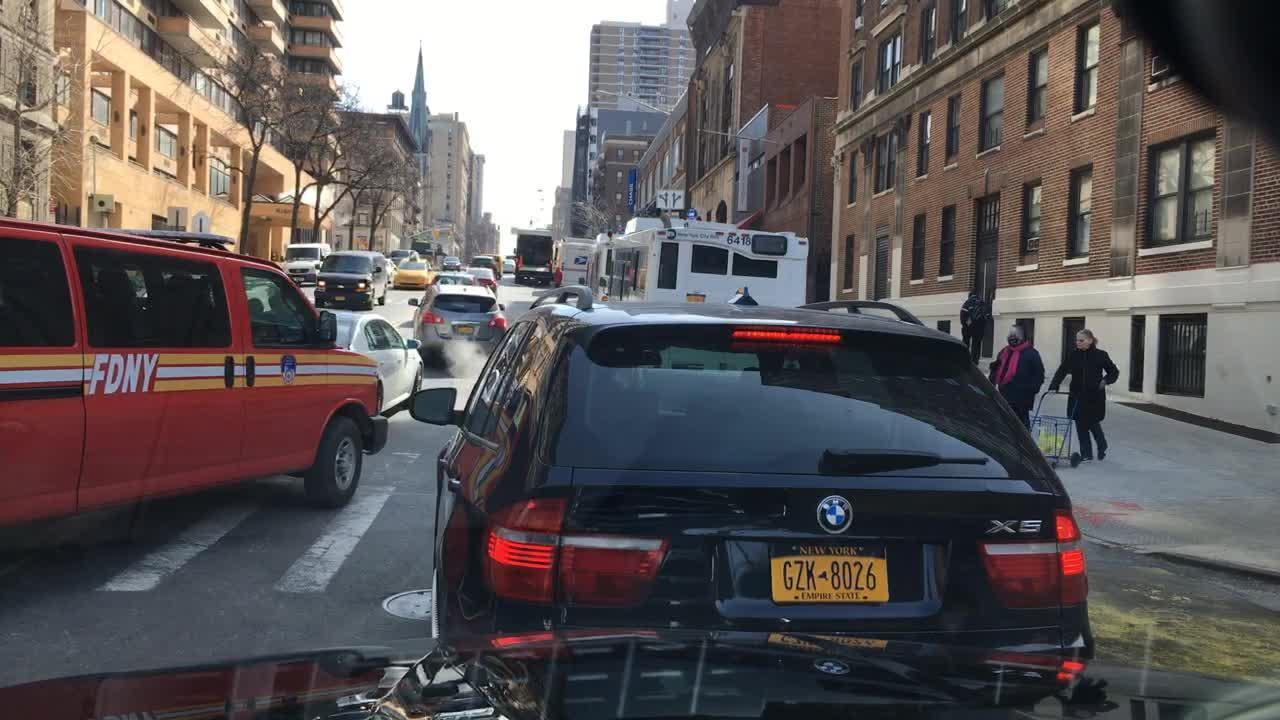bmw: (813, 487, 861, 537)
